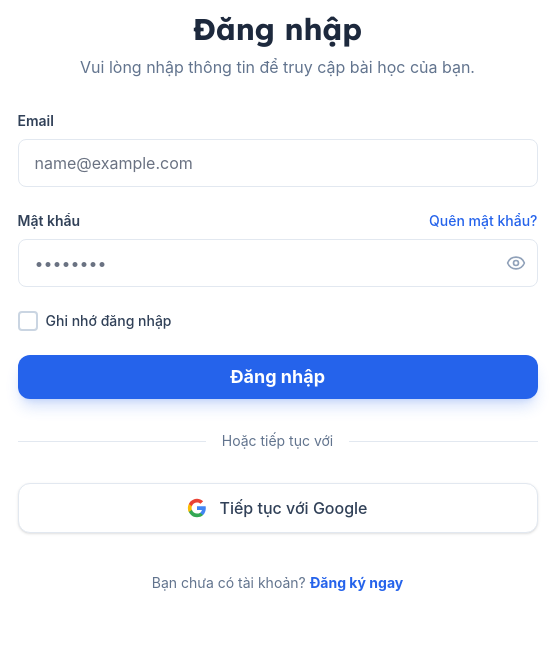
LoginForm Component › validates invalid email format
Type "invalid-email-format" into the field labelled "Email".
click(278, 163); type("invalid-email-format")  # box [18, 139, 538, 187]
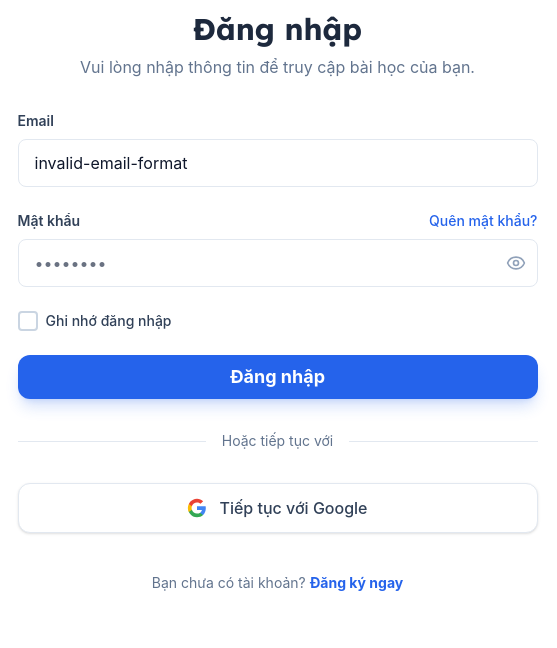
Click the button "Đăng nhập".
click(278, 377)  # box [18, 355, 538, 399]
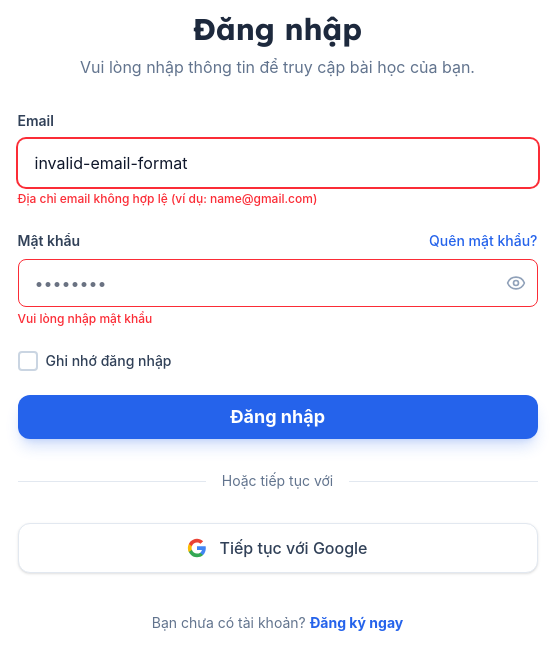
Result: the text "Địa chỉ email không hợp lệ (ví dụ: name@gmail.com)" is shown at [18, 191, 317, 206]
